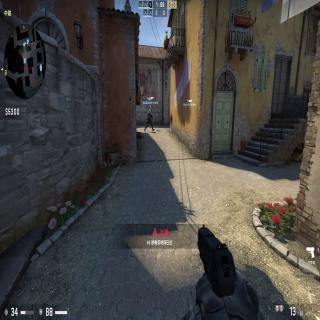CT-Body: (144, 108, 155, 132)
CT-Head: (149, 109, 152, 112)
